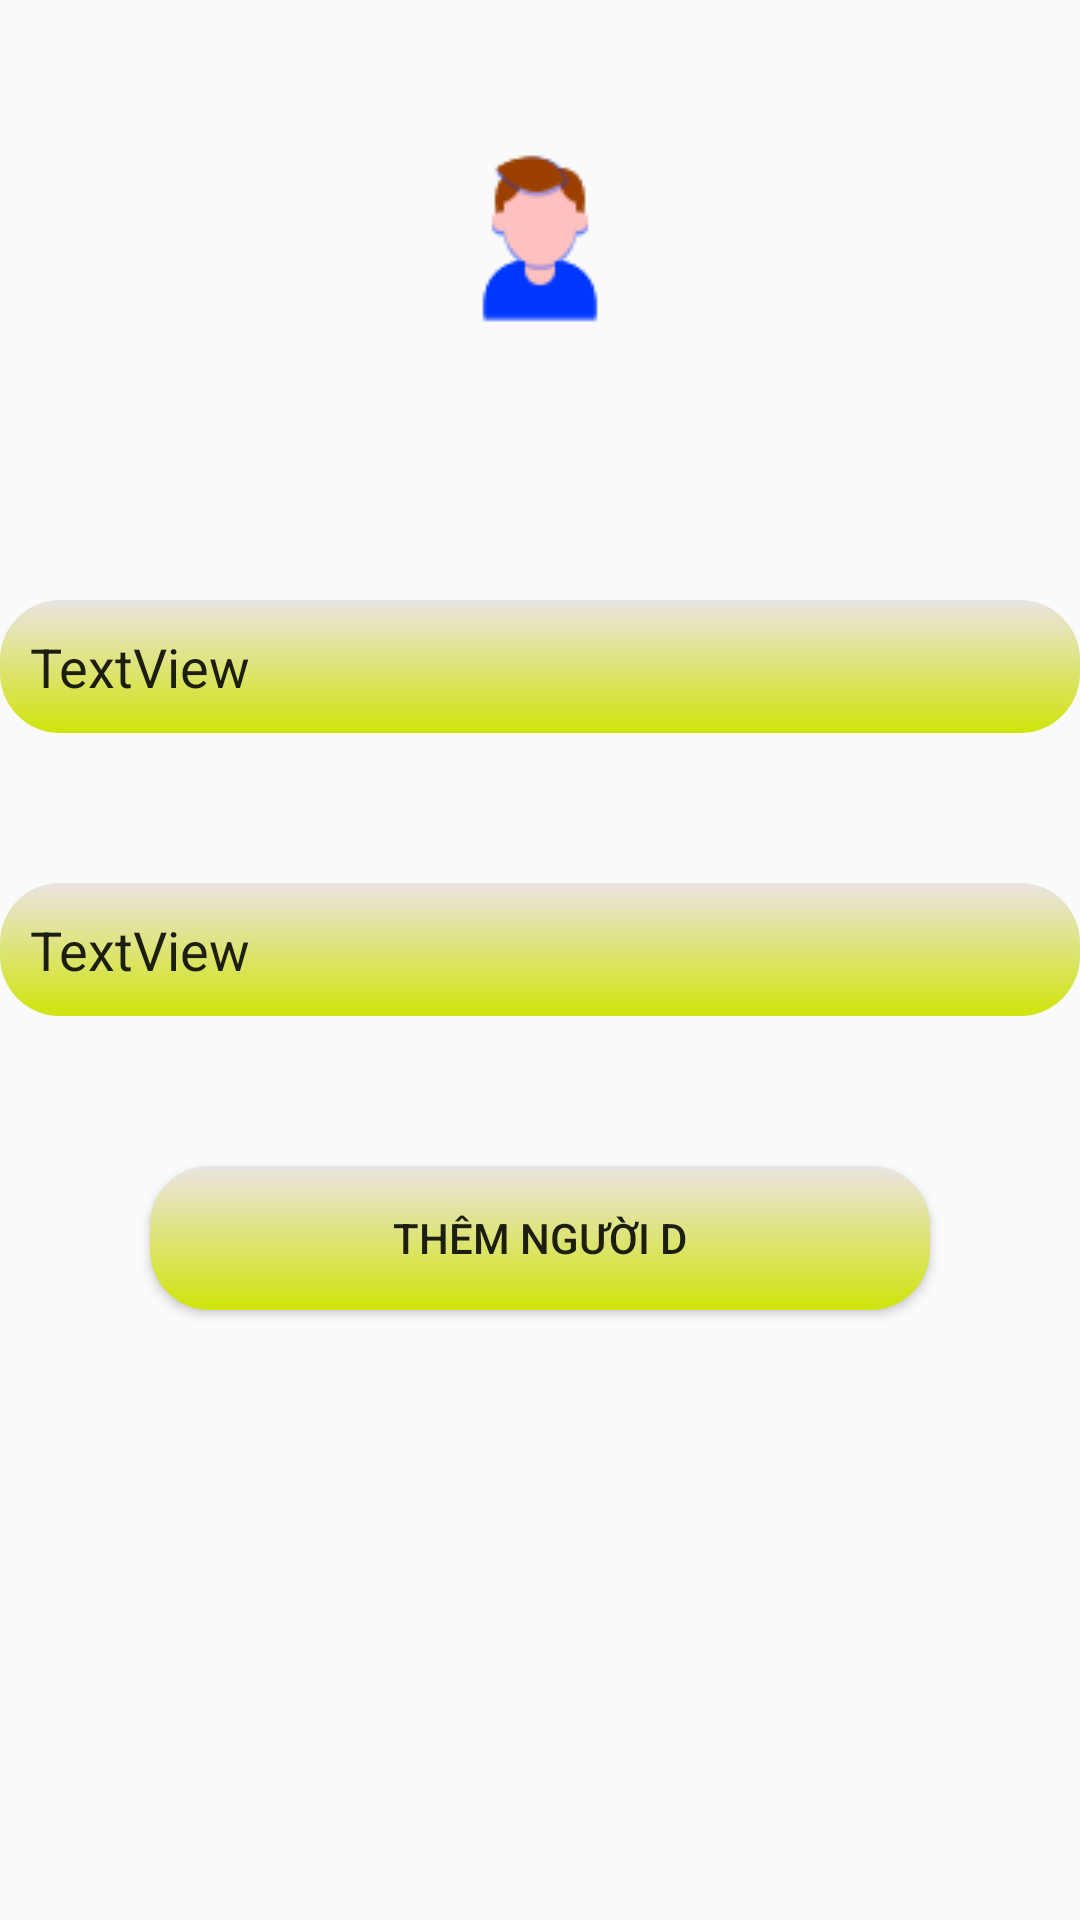

Locate icon controls on the screen. Image size 1080×1920, boxes as (x1, y1, x2, y2).
user: (482, 155, 598, 322)
